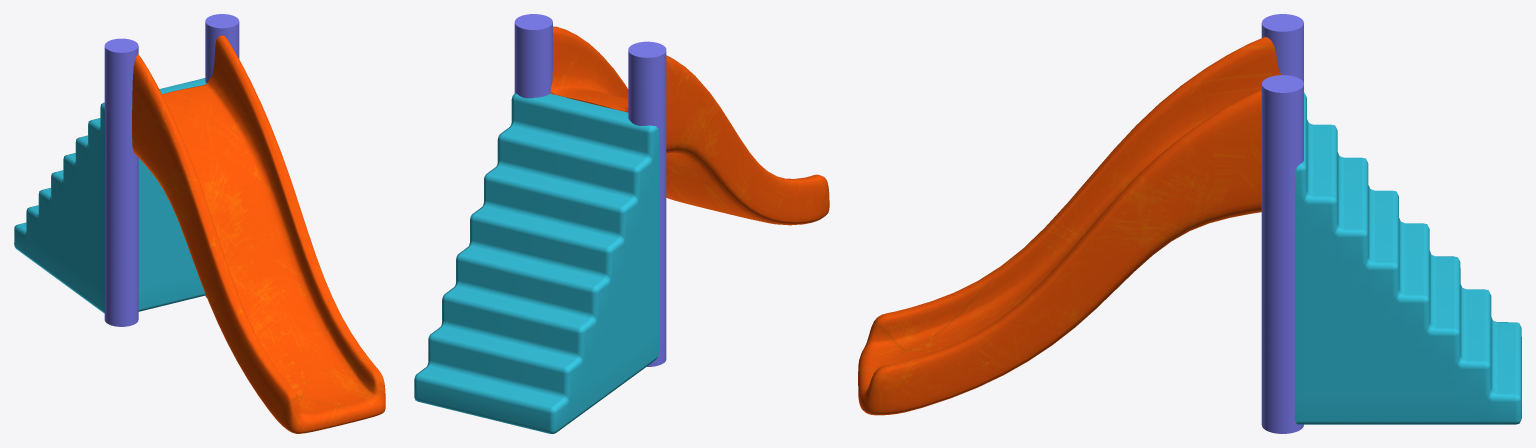
File: Glissade.fbx
3 renders of one model, left to right at view 1: azimuth 30°, elevation 25°; view 2: azimuth 150°, elevation 25°; view 3: azimuth 270°, elevation 25°, orthographic. The views are drawn at different scales.
Visible parts, largest first — view 1: SM_SmallBallPitSLide__1_; view 2: SM_SmallBallPitSLide__1_; view 3: SM_SmallBallPitSLide__1_.
Part boxes in pixels (x1,y1,x2,y2): SM_SmallBallPitSLide__1_: [14, 14, 385, 433]; SM_SmallBallPitSLide__1_: [414, 14, 829, 433]; SM_SmallBallPitSLide__1_: [858, 14, 1521, 433].
Size of the model in its own units: 133 by 268 by 473.
